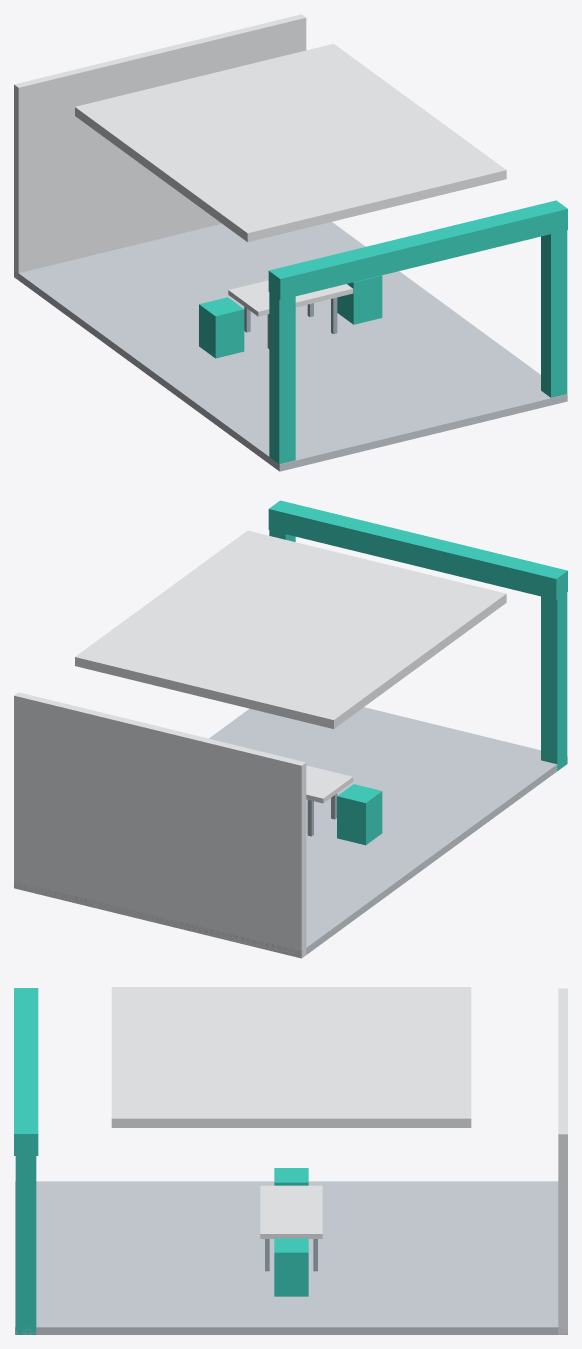
The picture shows the model from 3 angles, top to bottom: view 1: azimuth 30°, elevation 25°; view 2: azimuth 150°, elevation 25°; view 3: azimuth 270°, elevation 25°; orthographic projection. The views are drawn at different scales.
Visible parts, largest first — view 1: Exhibition Booth Concept; view 2: Exhibition Booth Concept; view 3: Exhibition Booth Concept.
Boxes of the visible parts, x1,y1,x2,y2 form: Exhibition Booth Concept: (14, 14, 567, 471); Exhibition Booth Concept: (14, 500, 567, 958); Exhibition Booth Concept: (14, 987, 567, 1334).
Bounding box in the file's own units: 5 × 3.34 × 8.01.
